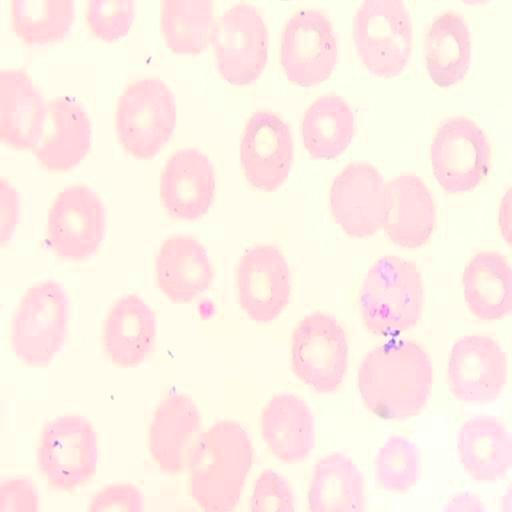Infected: (360, 254, 425, 334)
Uninfected: (357, 342, 429, 416), (190, 420, 252, 504), (12, 280, 69, 364), (116, 78, 176, 155), (290, 312, 349, 390), (353, 0, 414, 75), (329, 160, 387, 236), (430, 117, 489, 191), (213, 6, 269, 83), (47, 186, 106, 259), (149, 391, 203, 470), (281, 11, 338, 84), (239, 112, 294, 187), (158, 148, 216, 219), (39, 414, 96, 486), (237, 245, 290, 319), (382, 176, 437, 247), (38, 97, 93, 168), (446, 334, 505, 400), (155, 236, 214, 301), (103, 295, 156, 367), (460, 252, 512, 320), (425, 11, 472, 86), (260, 394, 313, 460), (306, 454, 365, 510), (301, 95, 353, 158), (456, 416, 508, 478), (161, 1, 215, 54), (374, 435, 419, 490), (247, 470, 294, 510)
